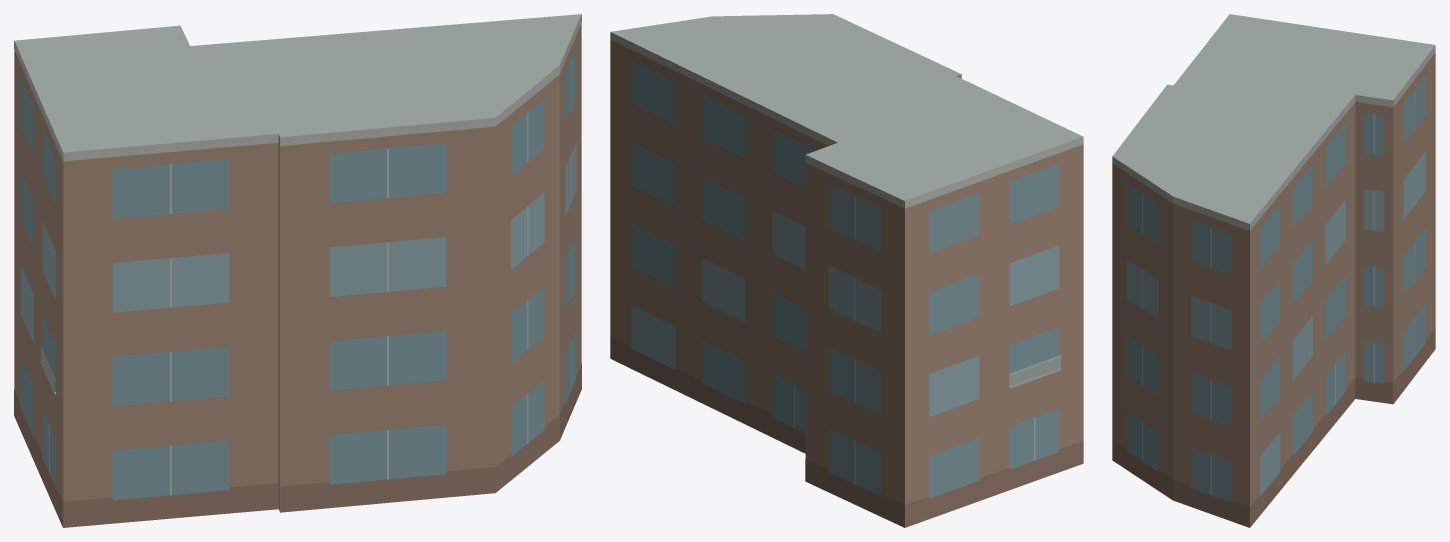
Rendered from survey-upis-32538453.glb.
The picture shows the model from 3 angles, left to right: view 1: azimuth 30°, elevation 25°; view 2: azimuth 150°, elevation 25°; view 3: azimuth 270°, elevation 25°; orthographic projection. The views are drawn at different scales.
Visible parts, largest first — view 1: survey-upis-32538453.tmp; view 2: survey-upis-32538453.tmp; view 3: survey-upis-32538453.tmp.
Boxes of the visible parts, left/top/right/bottom form: survey-upis-32538453.tmp: left=14, top=14, right=581, bottom=527; survey-upis-32538453.tmp: left=610, top=14, right=1083, bottom=527; survey-upis-32538453.tmp: left=1112, top=14, right=1435, bottom=527.
Size of the model in its own units: 15.56 by 10.5 by 10.13.
